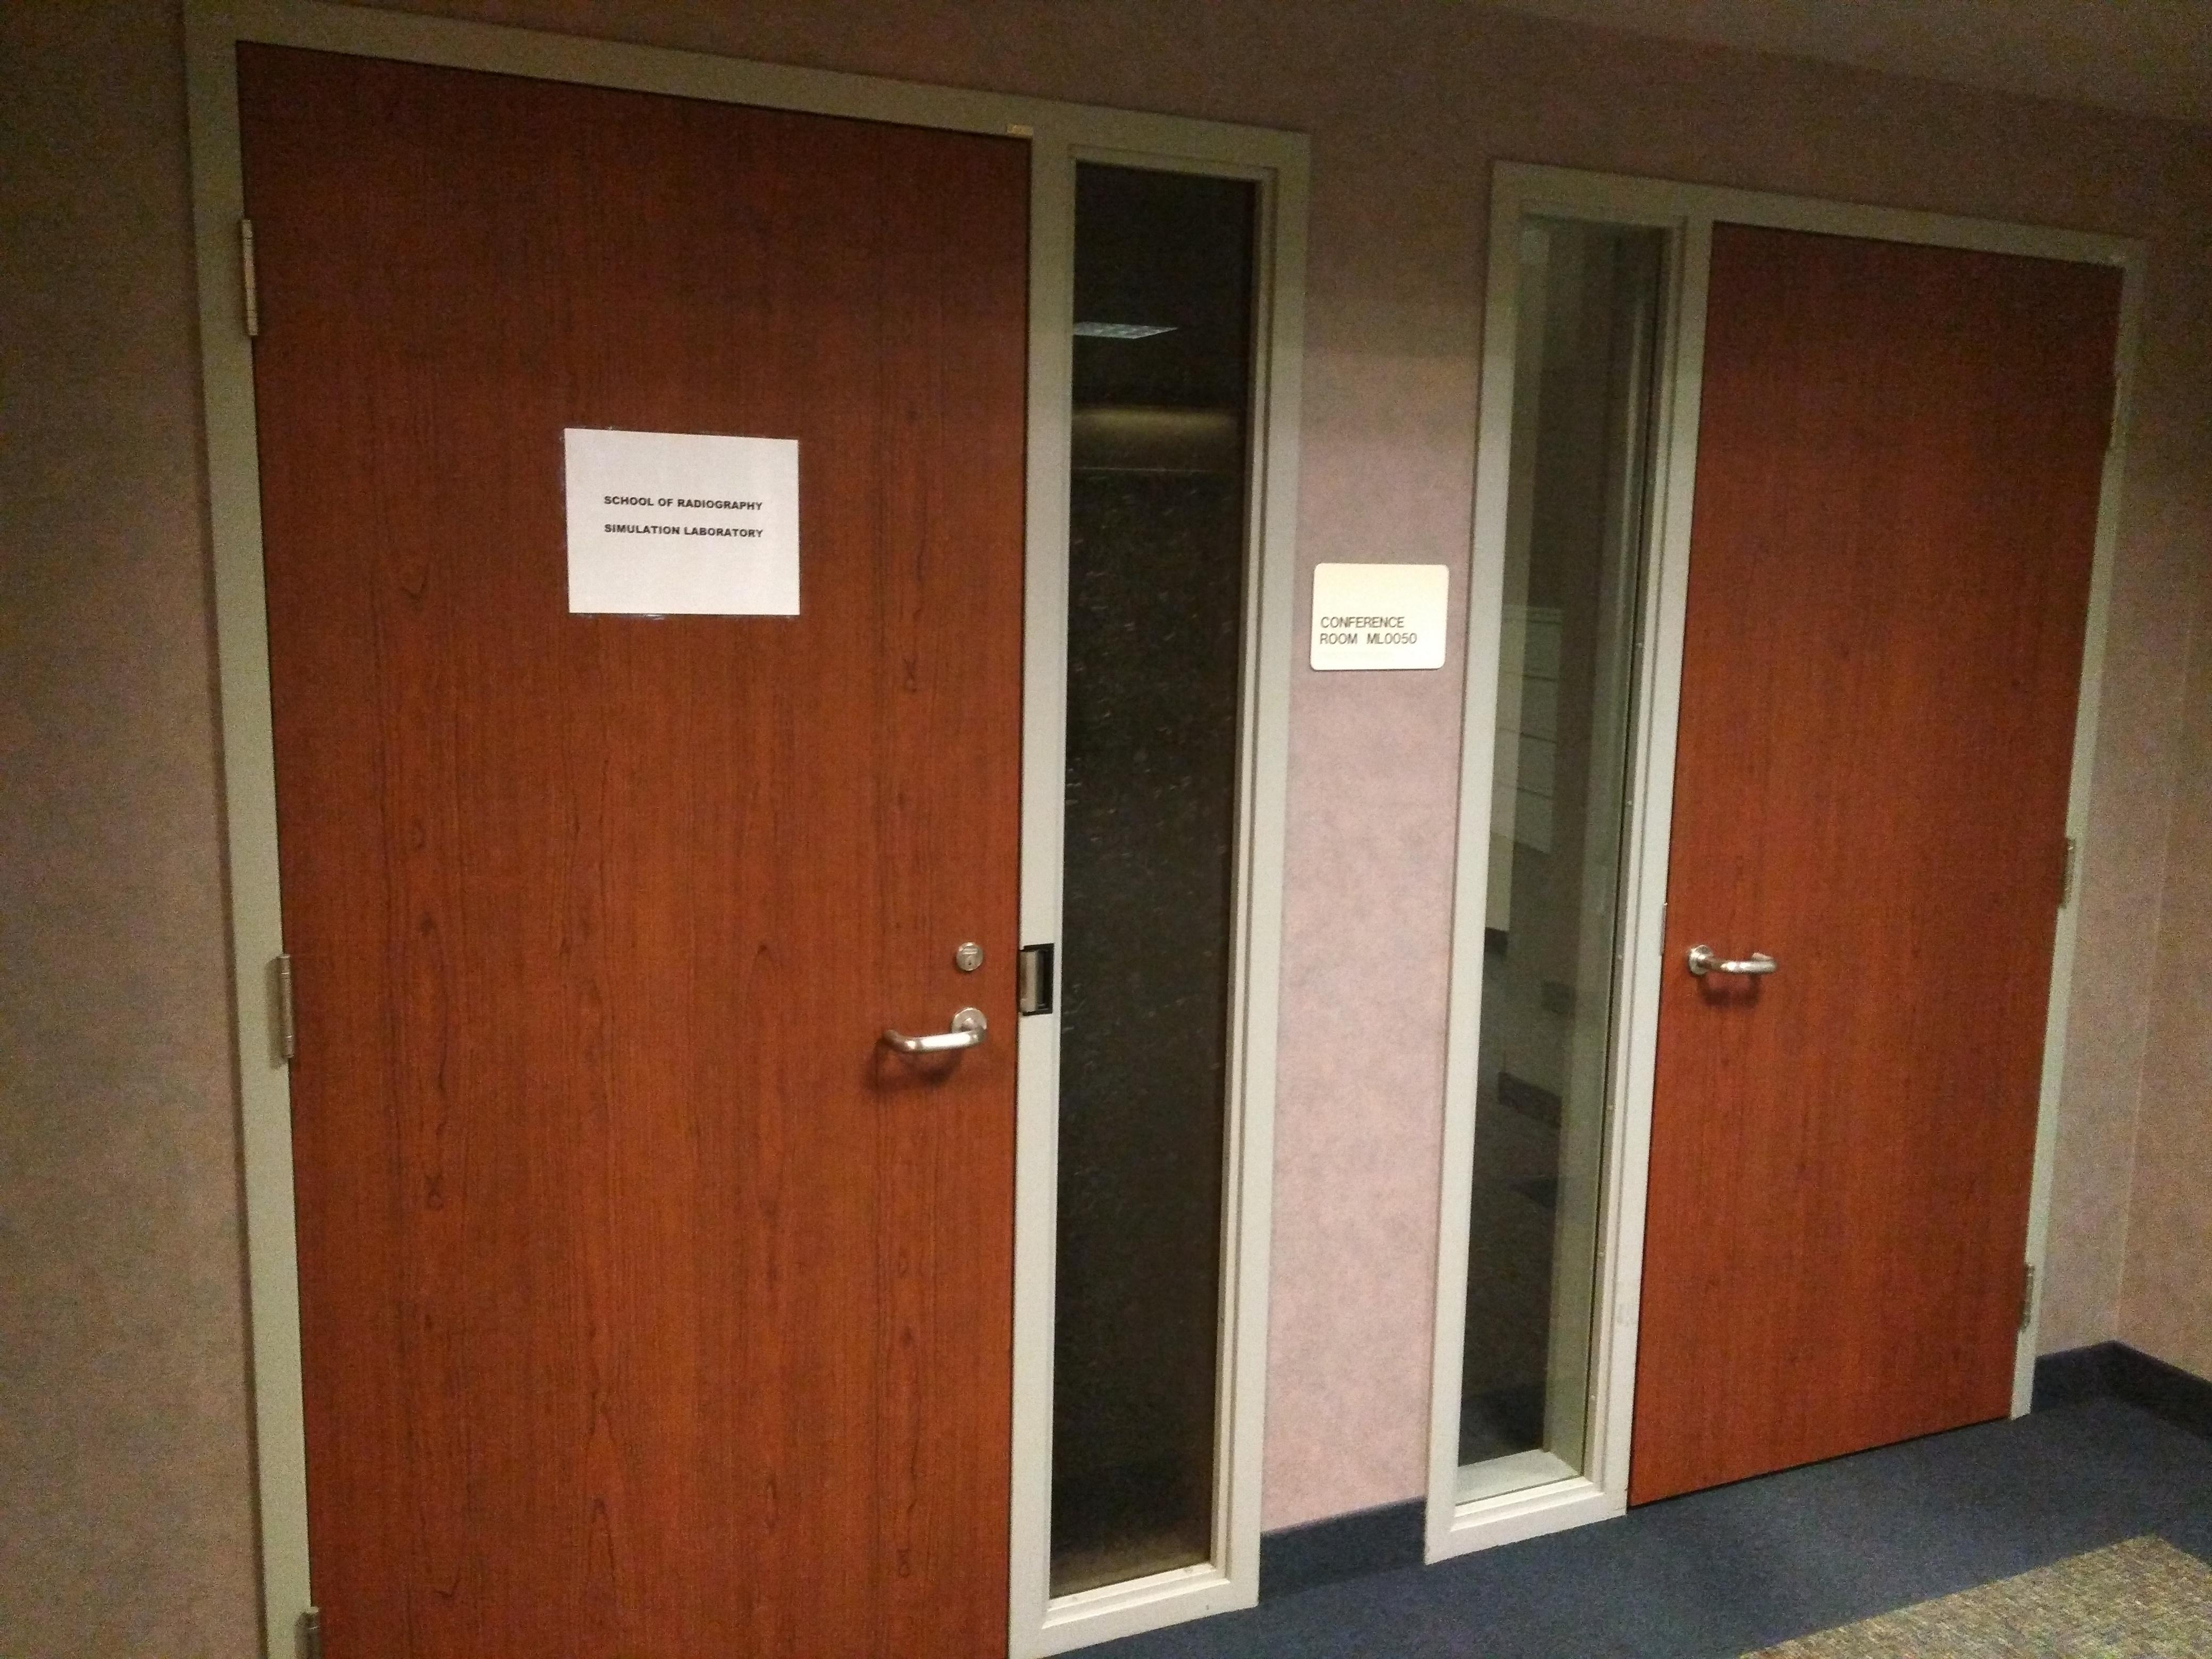door: (181, 5, 1078, 1659), (1601, 181, 2151, 1520)
sign: (564, 429, 799, 613), (1312, 563, 1451, 669)
